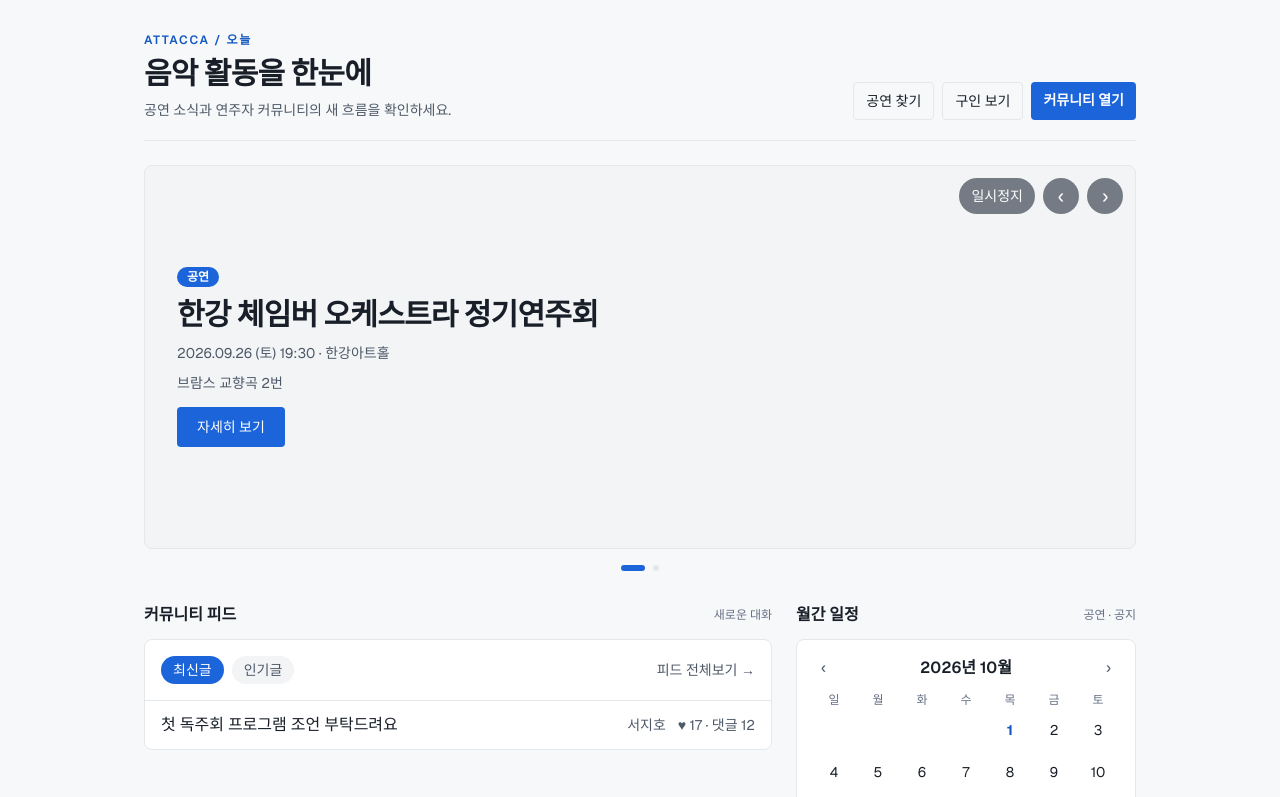
Test case: 홈 › 인기글 탭을 누르면 POPULAR로 다시 조회한다
This screenshot has width=1280, height=797.
Check: the text "첫 독주회 프로그램 조언 부탁드려요" is shown, box [161,714,398,735]
What coordinates should you click on to do the following:
click the tab "인기글"
I would click on:
 (263, 670)
Its box is [232,656,294,684].
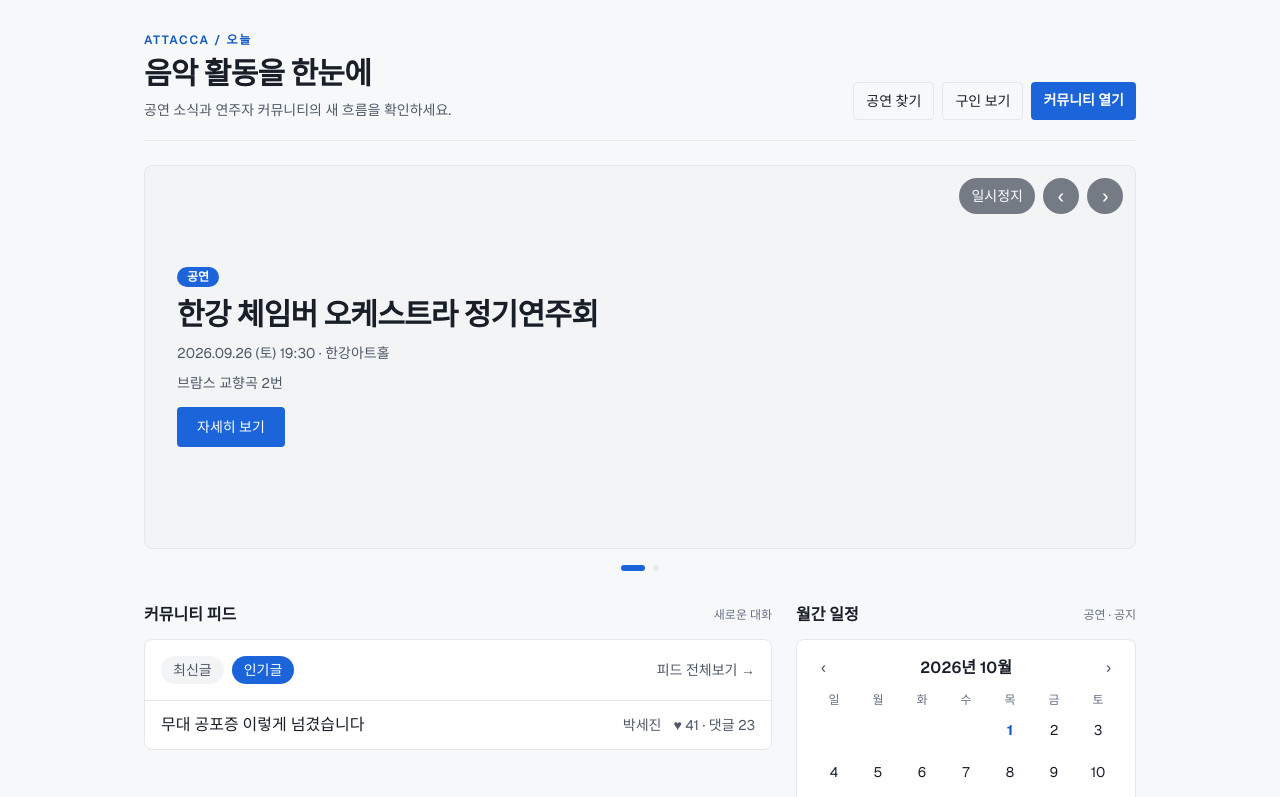
Check: the text "무대 공포증 이렇게 넘겼습니다" is shown, box [161,714,364,735]
